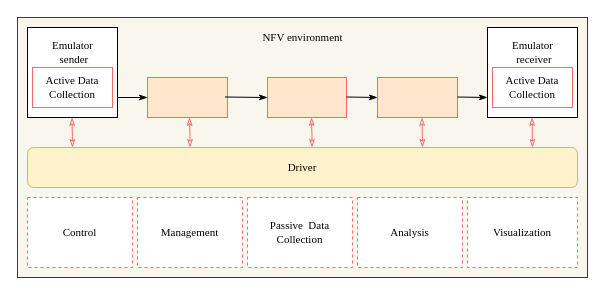
Some shapes in this 605 by 295 pixel diagram are drawn without their labels. The shapes that lost their labels are listed below. From the top down, each one's centre as x and y in pixels, then its label:
At (x=187, y=97): "VNF 1".
At (x=306, y=97): "VNF 2".
At (x=417, y=97): "VNF 3".
